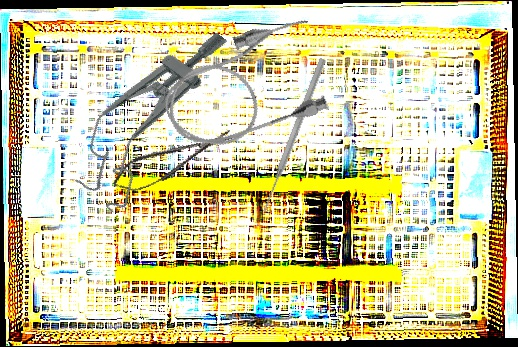Cannula: (150, 10, 340, 164)
Micro Scissor: (107, 123, 239, 198)
Pusher: (259, 57, 328, 213)
Speculum: (58, 5, 240, 217)
